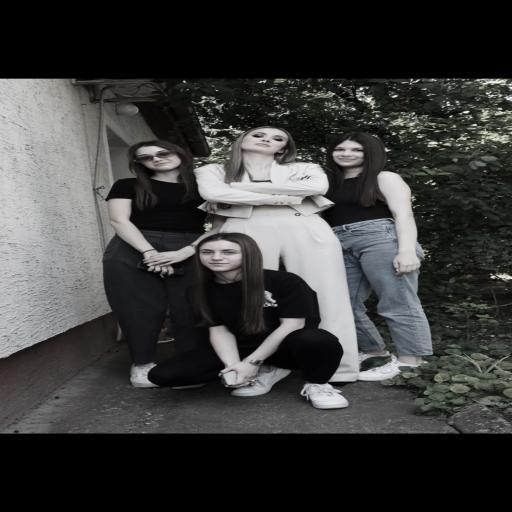masa: (197, 236, 253, 274)
